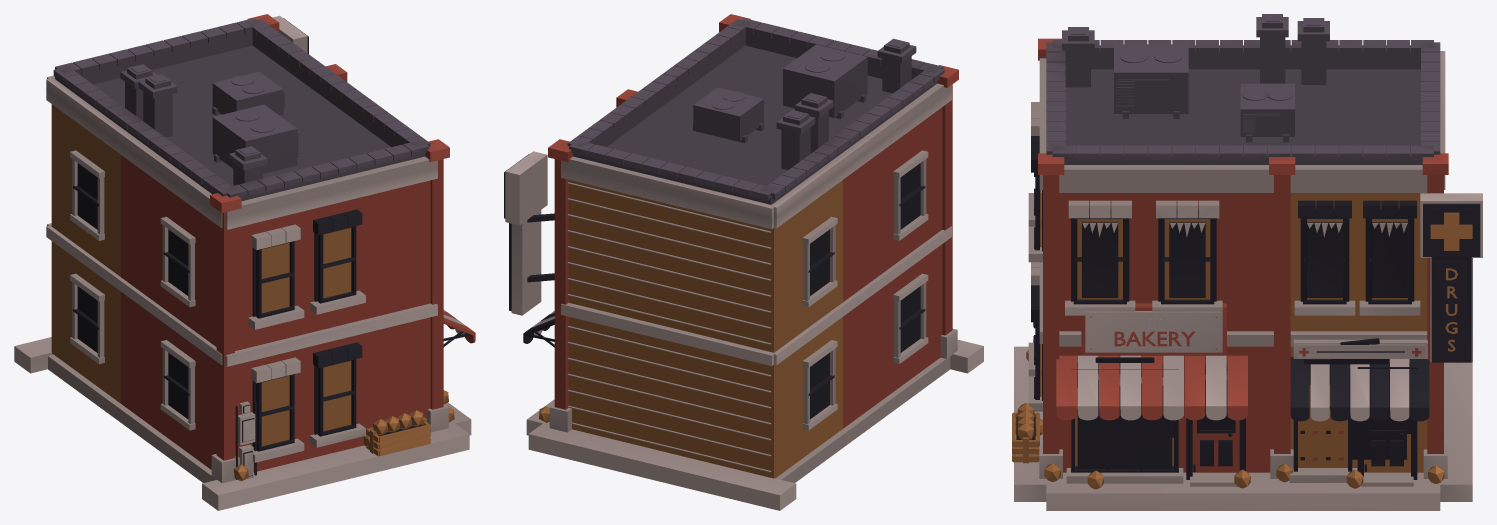
The model's file is bld.mainstreet-brick.w3.glb.
The picture shows the model from 3 angles, left to right: view 1: azimuth 30°, elevation 25°; view 2: azimuth 150°, elevation 25°; view 3: azimuth 270°, elevation 25°; orthographic projection. The views are drawn at different scales.
Parts seen in each view (by area): view 1: object 5, roof; view 2: object 5, roof; view 3: object 5, roof, door_bakery, door_pharmacy.
Boxes of the visible parts, left/top/right/bottom form: object 5: left=14, top=14, right=475, bottom=510; roof: left=53, top=18, right=430, bottom=200; object 5: left=504, top=14, right=983, bottom=510; roof: left=567, top=18, right=944, bottom=204; object 5: left=1012, top=38, right=1482, bottom=510; roof: left=1046, top=14, right=1440, bottom=164; door_bakery: left=1193, top=380, right=1235, bottom=471; door_pharmacy: left=1364, top=380, right=1406, bottom=471.
Bounding box in the file's own units: 7.39 × 8.55 × 9.7.
